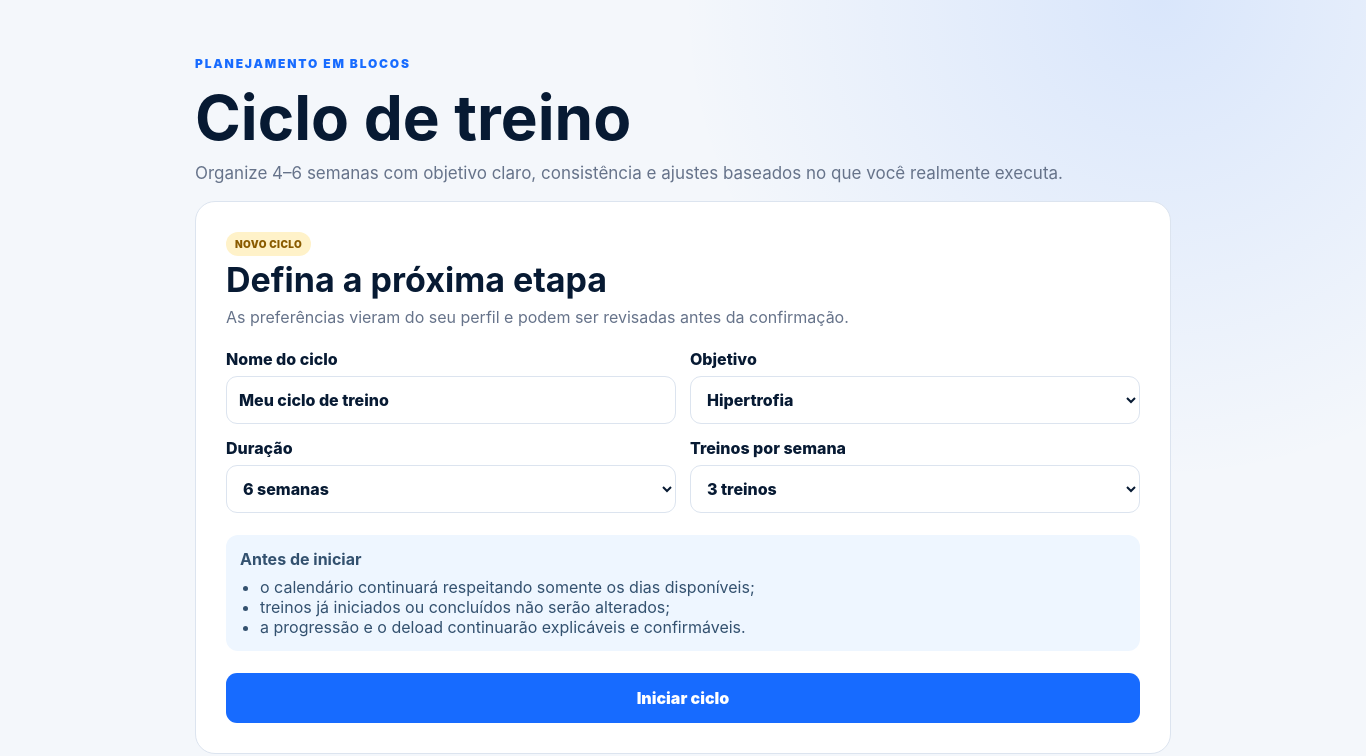
Test case: ciclo de treino › cria um ciclo somente depois da confirmação
This screenshot has width=1366, height=756.
Expected: the heading "Defina a próxima etapa" is shown, left=226, top=259, right=607, bottom=300
What coordinates should you click on to do the following:
click the button "Iniciar ciclo"
I would click on:
 (683, 698)
Its box is left=226, top=673, right=1140, bottom=723.
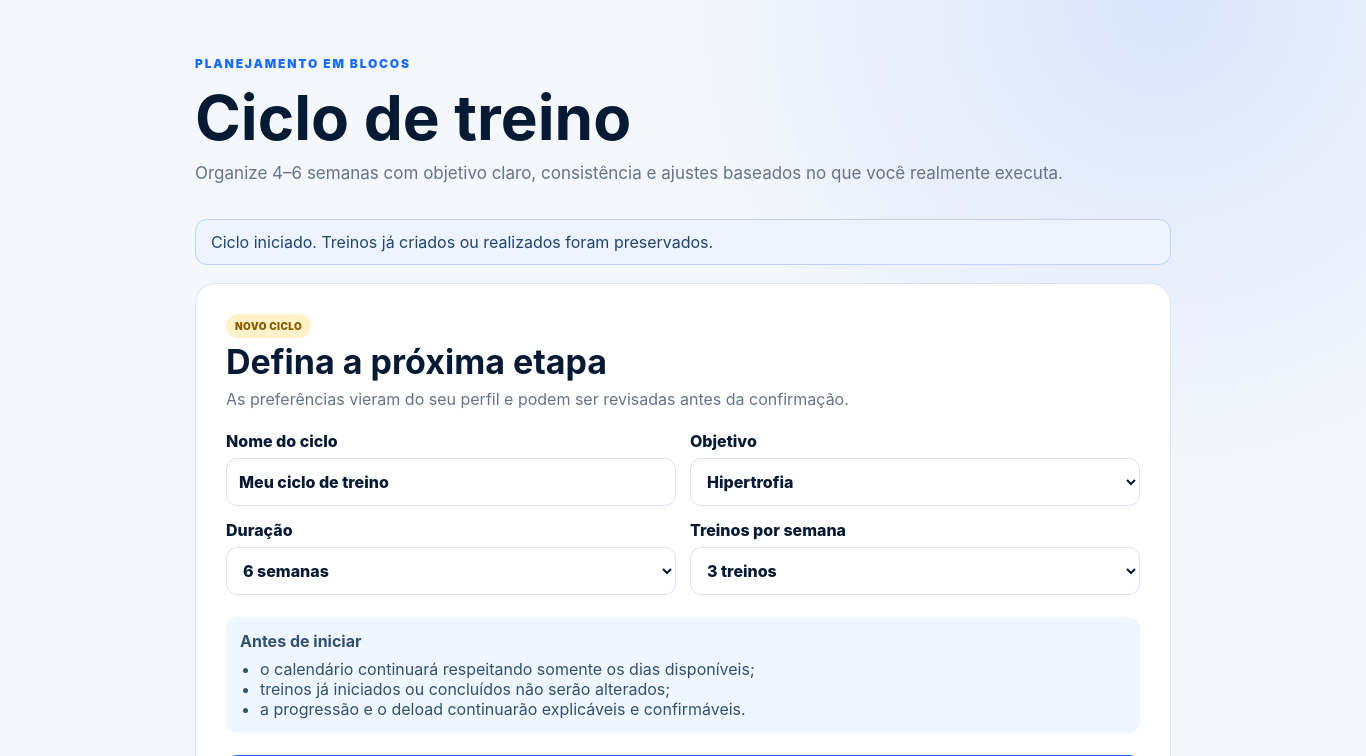
Expected: the text "Ciclo iniciado. Treinos já criados ou realizados foram preservados." is shown, left=195, top=219, right=1171, bottom=265
